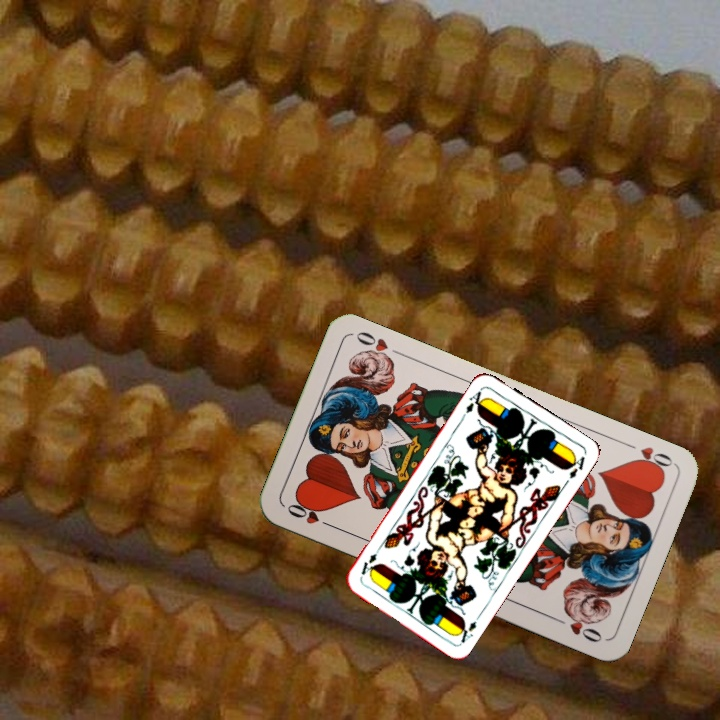EA: (453, 609, 484, 646), (462, 384, 488, 416)
HO: (620, 438, 676, 476), (282, 500, 338, 531)
